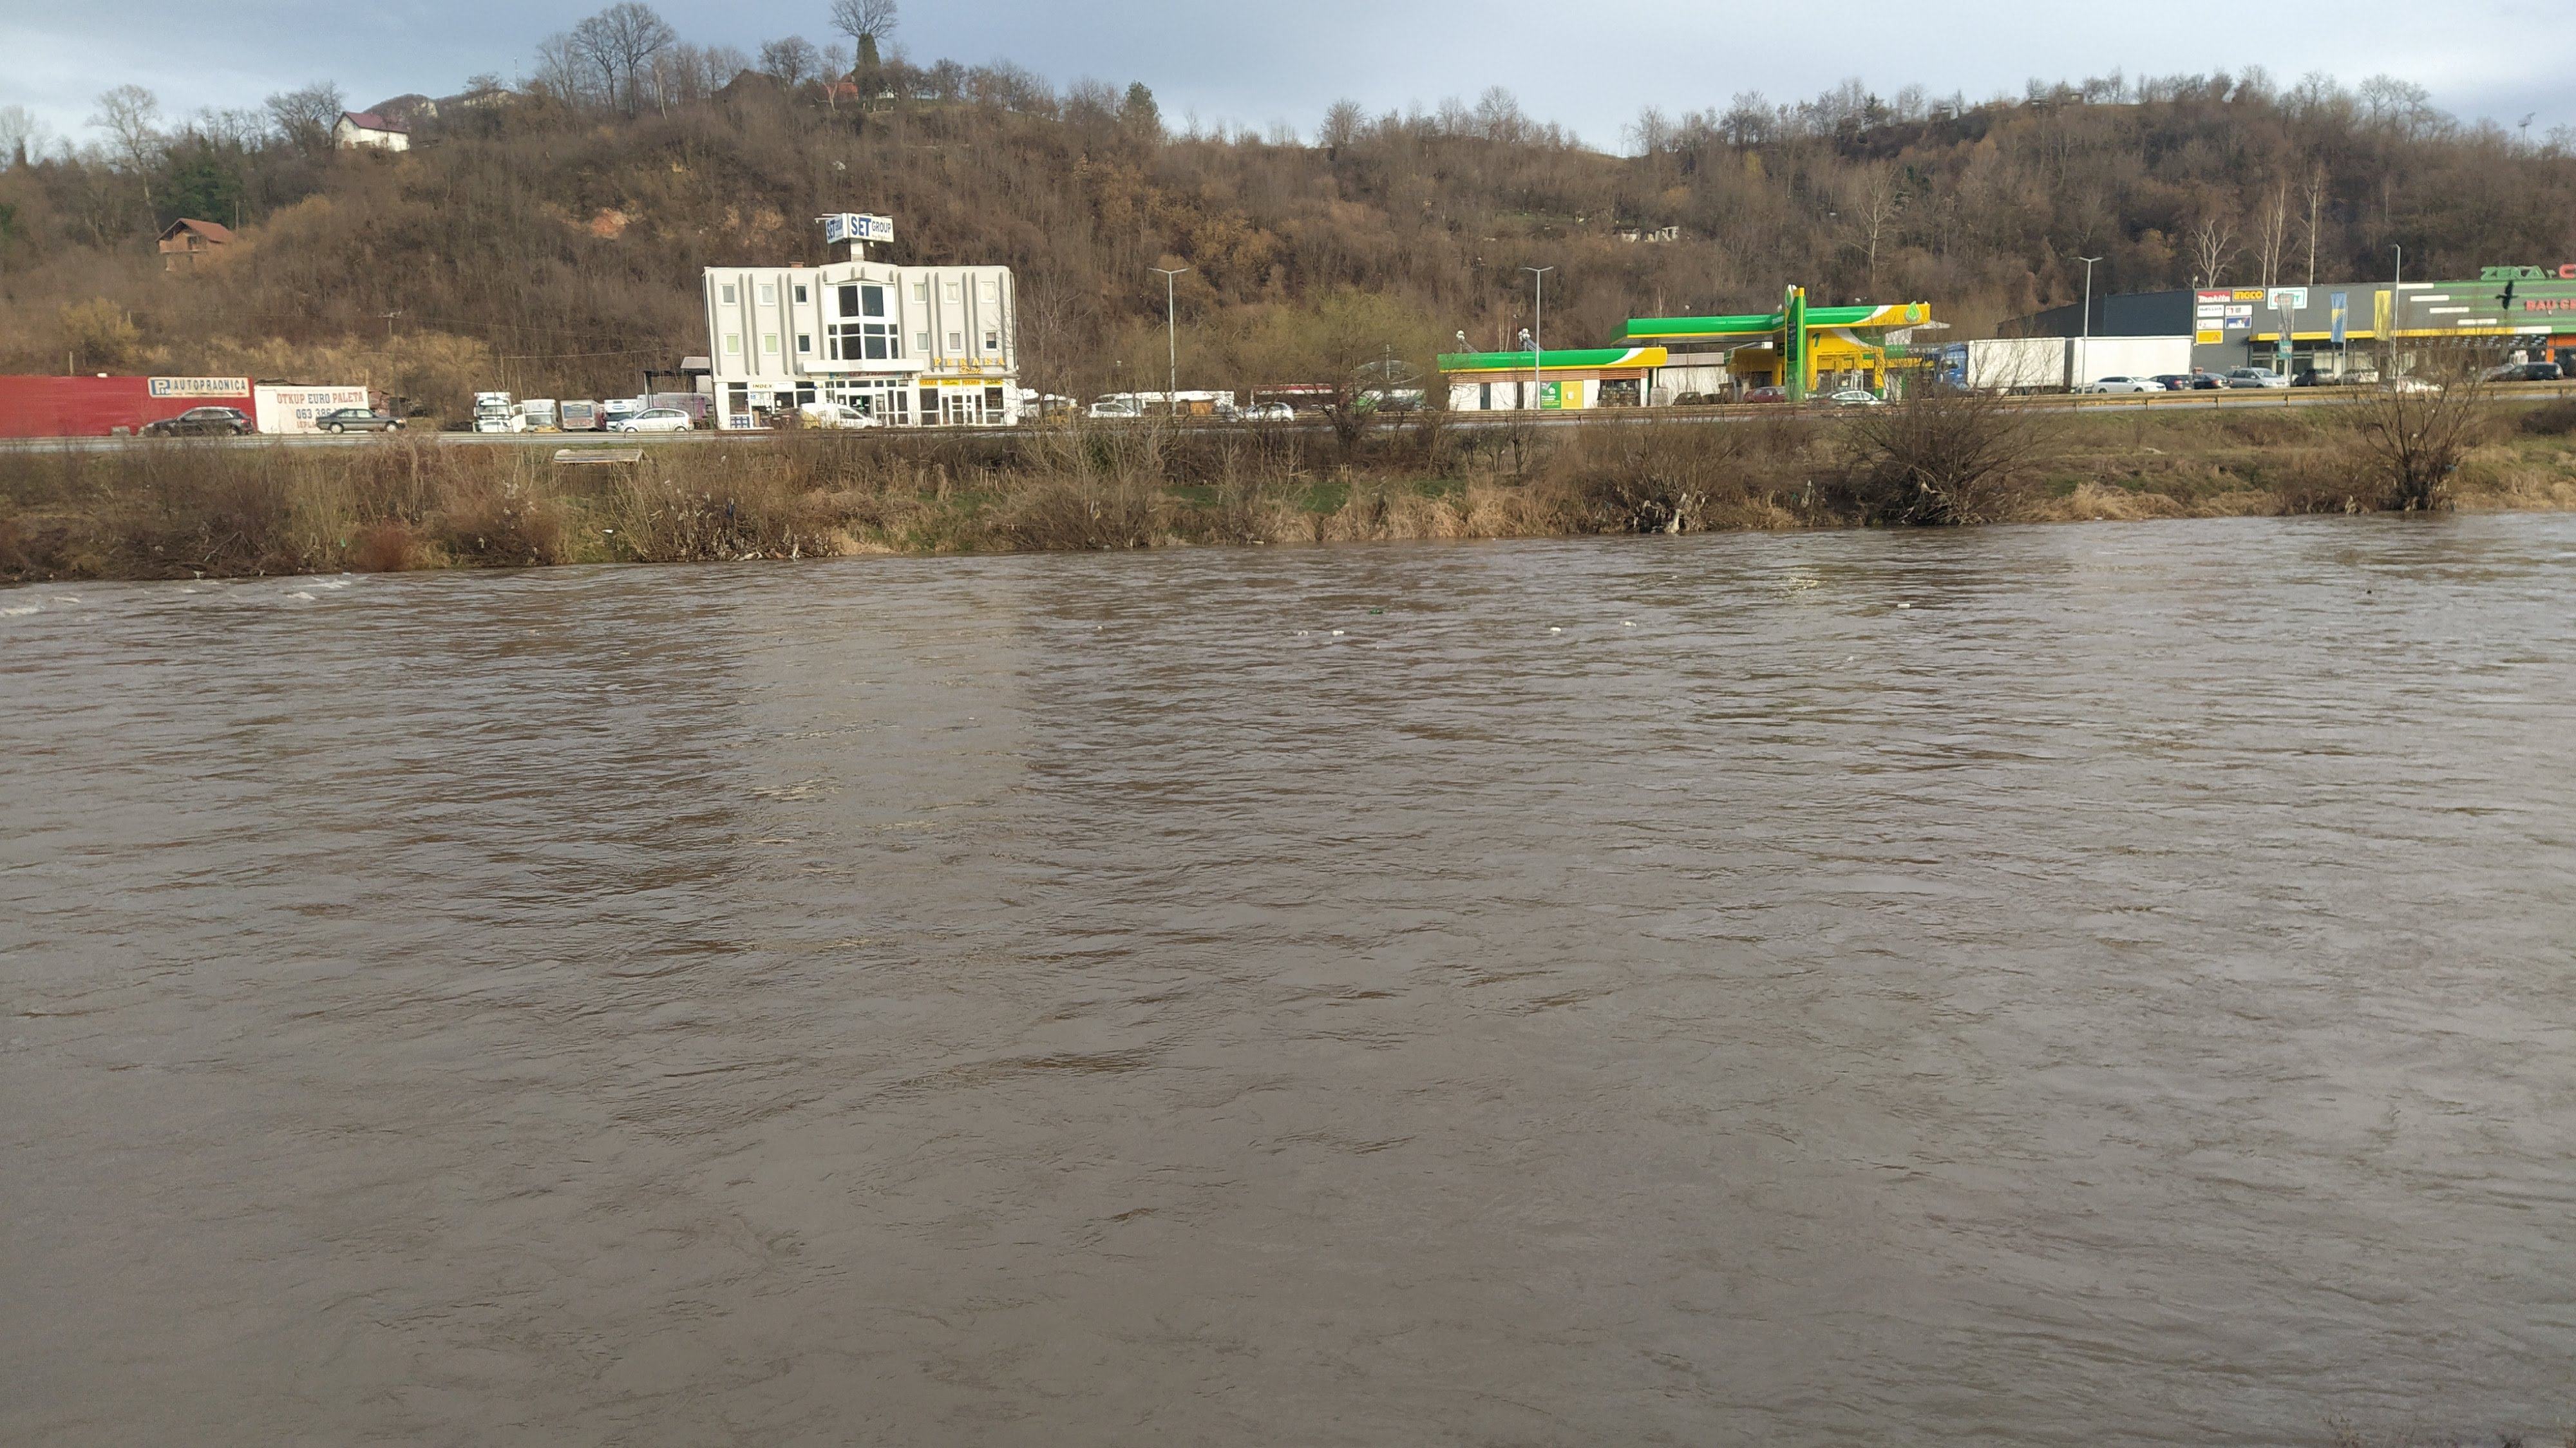Plastic Bottle: (511, 630, 536, 637), (1621, 620, 1637, 627), (1897, 604, 1911, 609), (1369, 609, 1382, 614), (1332, 630, 1343, 635), (1297, 630, 1307, 634), (1550, 627, 1560, 630), (1847, 655, 1852, 662), (343, 572, 350, 575), (621, 651, 630, 653)
